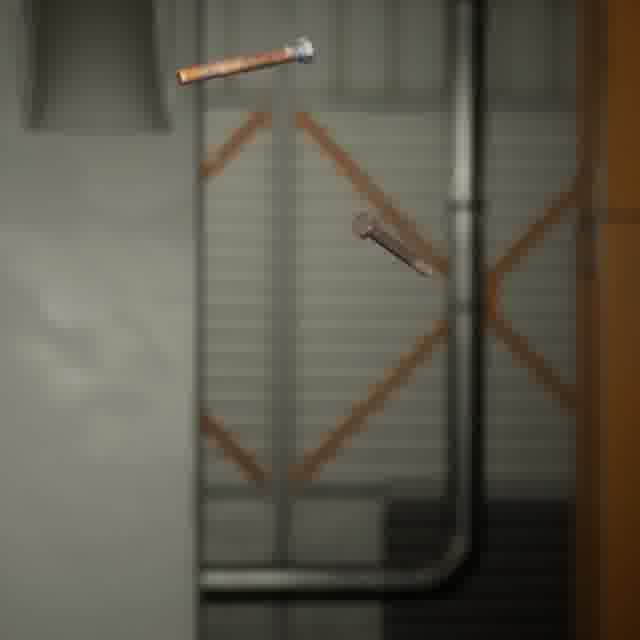bolt: (171, 33, 318, 89), (347, 207, 437, 281)
